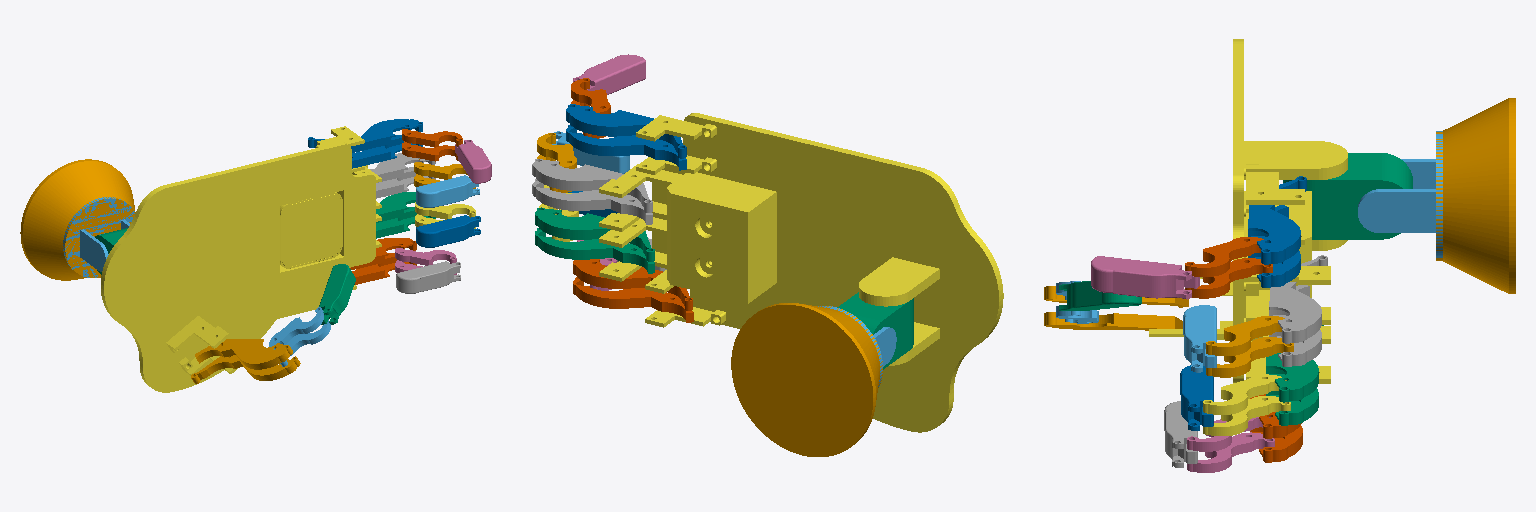
--- Render facts (derived) ---
3 views of the same robot in one strip: view 1: azimuth 30°, elevation 25°; view 2: azimuth 150°, elevation 25°; view 3: azimuth 270°, elevation 25° (orthographic).
Robot: hand_urdf — 19 links, 18 joints (18 continuous); root link base_link; default pose: all joints at 0.
Links seen in each view (by area): view 1: palm_v15_1, base_link, Two_Pip_v3_5, Two_Pip_v3_1, roll_mount_v3_1, Finger_Tip_v1_4, Finger_Tip_v1_3, Two_Pip_v3_3, Finger_Tip_v1_2, Two_Pip_v3_2, Two_Mip_v3_1, Finger_Tip_v1_5 (+6 smaller); view 2: palm_v15_1, base_link, Two_Pip_v3_1, Two_Pip_v3_2, Two_Pip_v3_3, Two_Pip_v3_4, 3dof_link_v3_1, Finger_Tip_v1_1, Two_Mip_v3_1, Two_Mip_v3_2, Finger_Tip_v1_2, roll_mount_v3_1; view 3: base_link, palm_v15_1, 3dof_link_v3_1, roll_mount_v3_1, Two_Pip_v3_1, Finger_Tip_v1_1, Two_Pip_v3_2, Two_Mip_v3_2, Two_Mip_v3_3, Two_Mip_v3_1, Two_Pip_v3_3, Two_Pip_v3_5 (+7 smaller).
Link boxes in pixels (x1=…): palm_v15_1: x1=101, y1=126, x2=381, y2=392; base_link: x1=20, y1=159, x2=135, y2=280; Two_Pip_v3_5: x1=191, y1=339, x2=300, y2=383; Two_Pip_v3_1: x1=308, y1=119, x2=422, y2=168; roll_mount_v3_1: x1=63, y1=197, x2=134, y2=277; Finger_Tip_v1_4: x1=396, y1=261, x2=460, y2=293; Finger_Tip_v1_3: x1=416, y1=215, x2=480, y2=247; Two_Pip_v3_3: x1=376, y1=192, x2=435, y2=238; Finger_Tip_v1_2: x1=416, y1=175, x2=479, y2=207; Two_Pip_v3_2: x1=370, y1=153, x2=435, y2=198; Two_Mip_v3_1: x1=402, y1=129, x2=462, y2=161; Finger_Tip_v1_5: x1=319, y1=264, x2=355, y2=324; palm_v15_1: x1=599, y1=113, x2=1003, y2=432; base_link: x1=731, y1=303, x2=882, y2=456; Two_Pip_v3_1: x1=566, y1=104, x2=686, y2=170; Two_Pip_v3_2: x1=532, y1=159, x2=652, y2=224; Two_Pip_v3_3: x1=535, y1=207, x2=654, y2=273; Two_Pip_v3_4: x1=573, y1=259, x2=693, y2=322; 3dof_link_v3_1: x1=837, y1=292, x2=913, y2=369; Finger_Tip_v1_1: x1=573, y1=54, x2=645, y2=94; Two_Mip_v3_1: x1=571, y1=78, x2=610, y2=138; Two_Mip_v3_2: x1=537, y1=133, x2=576, y2=192; Finger_Tip_v1_2: x1=552, y1=131, x2=629, y2=173; roll_mount_v3_1: x1=818, y1=306, x2=896, y2=386; base_link: x1=1436, y1=98, x2=1515, y2=293; palm_v15_1: x1=1149, y1=39, x2=1347, y2=399; 3dof_link_v3_1: x1=1283, y1=153, x2=1412, y2=239; roll_mount_v3_1: x1=1358, y1=131, x2=1442, y2=257; Two_Pip_v3_1: x1=1248, y1=176, x2=1306, y2=287; Finger_Tip_v1_1: x1=1091, y1=256, x2=1199, y2=299; Two_Pip_v3_2: x1=1269, y1=255, x2=1327, y2=366; Two_Mip_v3_2: x1=1206, y1=316, x2=1293, y2=377; Two_Mip_v3_3: x1=1203, y1=374, x2=1290, y2=435; Two_Mip_v3_1: x1=1185, y1=237, x2=1272, y2=298; Two_Pip_v3_3: x1=1266, y1=325, x2=1323, y2=425; Two_Pip_v3_5: x1=1044, y1=286, x2=1188, y2=330.
Bounding box of the posed robot: 0.2465 × 0.1804 × 0.1321 m (x, y, z).
19 mesh visuals loaded from 19 distinct referenced files (19 binary STL).

URDF robot description (hand_urdf):
<?xml version="1.0" ?>
<robot name="hand_urdf">

<material name="silver">
  <color rgba="0.700 0.700 0.700 1.000"/>
</material>

<link name="base_link">
  <inertial>
    <origin xyz="7.67151758420166e-18 0.020613076923076918 2.1918621669147595e-18" rpy="0 0 0"/>
    <mass value="0.12723793858735147"/>
    <inertia ixx="5.83125013777399e-05" iyy="7.417115410440445e-05" izz="5.8312501377741936e-05" ixy="-3.2362809867855993e-21" iyz="-7.324135827738805e-21" ixz="2.509992214072554e-20"/>
  </inertial>
  <visual>
    <origin xyz="0 0 0" rpy="0 0 0"/>
    <geometry>
      <mesh filename="meshes/base_link.stl" scale="0.001 0.001 0.001"/>
    </geometry>
    <material name="silver"/>
    <material/>
  </visual>
  <collision>
    <origin xyz="0 0 0" rpy="0 0 0"/>
    <geometry>
      <mesh filename="meshes/base_link.stl" scale="0.001 0.001 0.001"/>
    </geometry>
  </collision>
</link>

<link name="roll_mount_v3_1">
  <inertial>
    <origin xyz="4.902036832716327e-18 -0.00358731464829193 -5.172609688619013e-07" rpy="0 0 0"/>
    <mass value="0.057171952716038525"/>
    <inertia ixx="1.0724294508180227e-05" iyy="1.604105624132186e-05" izz="1.3661522217779174e-05" ixy="-9.632077720130188e-21" iyz="-6.479155981462885e-10" ixz="-5.396297255645283e-21"/>
  </inertial>
  <visual>
    <origin xyz="-0.0 -0.0 -0.0" rpy="0 0 0"/>
    <geometry>
      <mesh filename="meshes/roll_mount_v3_1.stl" scale="0.001 0.001 0.001"/>
    </geometry>
    <material name="silver"/>
    <material/>
  </visual>
  <collision>
    <origin xyz="-0.0 -0.0 -0.0" rpy="0 0 0"/>
    <geometry>
      <mesh filename="meshes/roll_mount_v3_1.stl" scale="0.001 0.001 0.001"/>
    </geometry>
  </collision>
</link>

<link name="3dof_link_v3_1">
  <inertial>
    <origin xyz="-0.012501007569997447 -0.01248051111687394 -1.099978665549902e-06" rpy="0 0 0"/>
    <mass value="0.2190513883977172"/>
    <inertia ixx="4.878435686950228e-05" iyy="2.1567777943709372e-05" izz="4.8782437895564896e-05" ixy="-3.975403540888505e-09" iyz="-1.3361367560523011e-09" ixz="-7.419182655409622e-14"/>
  </inertial>
  <visual>
    <origin xyz="-0.0125 0.021163 8e-06" rpy="0 0 0"/>
    <geometry>
      <mesh filename="meshes/3dof_link_v3_1.stl" scale="0.001 0.001 0.001"/>
    </geometry>
    <material name="silver"/>
    <material/>
  </visual>
  <collision>
    <origin xyz="-0.0125 0.021163 8e-06" rpy="0 0 0"/>
    <geometry>
      <mesh filename="meshes/3dof_link_v3_1.stl" scale="0.001 0.001 0.001"/>
    </geometry>
  </collision>
</link>

<link name="palm_v15_1">
  <inertial>
    <origin xyz="0.0636831572680068 -0.021023235461609724 0.020352748519255903" rpy="0 0 0"/>
    <mass value="1.0842981495386774"/>
    <inertia ixx="0.0009660798364865266" iyy="0.003311827801677933" izz="0.002616565759043314" ixy="-0.0001943818595748735" iyz="-4.322062188574132e-05" ixz="-0.00031129336614017203"/>
  </inertial>
  <visual>
    <origin xyz="5e-06 0.046139 0.012509" rpy="0 0 0"/>
    <geometry>
      <mesh filename="meshes/palm_v15_1.stl" scale="0.001 0.001 0.001"/>
    </geometry>
    <material name="silver"/>
    <material/>
  </visual>
  <collision>
    <origin xyz="5e-06 0.046139 0.012509" rpy="0 0 0"/>
    <geometry>
      <mesh filename="meshes/palm_v15_1.stl" scale="0.001 0.001 0.001"/>
    </geometry>
  </collision>
</link>

<link name="Two_Pip_v3_1">
  <inertial>
    <origin xyz="0.017149115417409294 0.0044647852196258025 0.007545434185566913" rpy="0 0 0"/>
    <mass value="0.04433435606559081"/>
    <inertia ixx="2.516721124079383e-06" iyy="1.199198128406533e-05" izz="1.1986574816703422e-05" ixy="-1.4430710920301099e-06" iyz="-4.4051116681242605e-08" ixz="8.995143458426702e-08"/>
  </inertial>
  <visual>
    <origin xyz="-0.128329 0.067015 -0.044091" rpy="0 0 0"/>
    <geometry>
      <mesh filename="meshes/Two_Pip_v3_1.stl" scale="0.001 0.001 0.001"/>
    </geometry>
    <material name="silver"/>
    <material/>
  </visual>
  <collision>
    <origin xyz="-0.128329 0.067015 -0.044091" rpy="0 0 0"/>
    <geometry>
      <mesh filename="meshes/Two_Pip_v3_1.stl" scale="0.001 0.001 0.001"/>
    </geometry>
  </collision>
</link>

<link name="Two_Mip_v3_1">
  <inertial>
    <origin xyz="0.03232726319551196 0.016294129241037215 -0.036248912572725674" rpy="0 0 0"/>
    <mass value="0.03803020017060857"/>
    <inertia ixx="6.436662632708387e-05" iyy="5.4780189326477605e-05" izz="5.916986932337498e-05" ixy="-2.55218768889134e-05" iyz="3.068078924495017e-05" ixz="2.55109177183834e-05"/>
  </inertial>
  <visual>
    <origin xyz="-0.167942 0.06428 -0.058091" rpy="0 0 0"/>
    <geometry>
      <mesh filename="meshes/Two_Mip_v3_1.stl" scale="0.001 0.001 0.001"/>
    </geometry>
    <material name="silver"/>
    <material/>
  </visual>
  <collision>
    <origin xyz="-0.167942 0.06428 -0.058091" rpy="0 0 0"/>
    <geometry>
      <mesh filename="meshes/Two_Mip_v3_1.stl" scale="0.001 0.001 0.001"/>
    </geometry>
  </collision>
</link>

<link name="Finger_Tip_v1_1">
  <inertial>
    <origin xyz="-0.0015503976109235151 -0.02029135940462791 0.0024995638900678144" rpy="0 0 0"/>
    <mass value="0.033241134652794525"/>
    <inertia ixx="3.652194680828463e-06" iyy="8.311943927171665e-07" izz="3.937895611284218e-06" ixy="-7.049413163236337e-07" iyz="2.7923437216983982e-14" ixz="2.428271342683197e-14"/>
  </inertial>
  <visual>
    <origin xyz="-0.186123 0.094108 -0.049091" rpy="0 0 0"/>
    <geometry>
      <mesh filename="meshes/Finger_Tip_v1_1.stl" scale="0.001 0.001 0.001"/>
    </geometry>
    <material name="silver"/>
    <material/>
  </visual>
  <collision>
    <origin xyz="-0.186123 0.094108 -0.049091" rpy="0 0 0"/>
    <geometry>
      <mesh filename="meshes/Finger_Tip_v1_1.stl" scale="0.001 0.001 0.001"/>
    </geometry>
  </collision>
</link>

<link name="Two_Pip_v3_2">
  <inertial>
    <origin xyz="0.01746432145907037 0.005674792107288232 -0.007454565829334393" rpy="0 0 0"/>
    <mass value="0.04433435606559081"/>
    <inertia ixx="2.5167211240792746e-06" iyy="1.1991981284065114e-05" izz="1.1986574816703205e-05" ixy="-1.4430710920302725e-06" iyz="-4.4051116681242605e-08" ixz="8.995143458423991e-08"/>
  </inertial>
  <visual>
    <origin xyz="-0.141099 0.060163 -0.031791" rpy="0 0 0"/>
    <geometry>
      <mesh filename="meshes/Two_Pip_v3_2.stl" scale="0.001 0.001 0.001"/>
    </geometry>
    <material name="silver"/>
    <material/>
  </visual>
  <collision>
    <origin xyz="-0.141099 0.060163 -0.031791" rpy="0 0 0"/>
    <geometry>
      <mesh filename="meshes/Two_Pip_v3_2.stl" scale="0.001 0.001 0.001"/>
    </geometry>
  </collision>
</link>

<link name="Two_Mip_v3_2">
  <inertial>
    <origin xyz="-0.12089953506854902 0.011957638943754054 -0.008564433293171825" rpy="0 0 0"/>
    <mass value="0.03803020017060857"/>
    <inertia ixx="3.4536509343401667e-05" iyy="0.0005375688788129267" izz="0.0005551278725152321" ixy="0.00011451652818724916" iyz="1.3401805138987385e-05" ixz="-6.249560442207107e-05"/>
  </inertial>
  <visual>
    <origin xyz="-0.181027 0.056218 -0.017791" rpy="0 0 0"/>
    <geometry>
      <mesh filename="meshes/Two_Mip_v3_2.stl" scale="0.001 0.001 0.001"/>
    </geometry>
    <material name="silver"/>
    <material/>
  </visual>
  <collision>
    <origin xyz="-0.181027 0.056218 -0.017791" rpy="0 0 0"/>
    <geometry>
      <mesh filename="meshes/Two_Mip_v3_2.stl" scale="0.001 0.001 0.001"/>
    </geometry>
  </collision>
</link>

<link name="Finger_Tip_v1_2">
  <inertial>
    <origin xyz="-0.02000108952769597 -0.0037538195925257145 0.002499563875166342" rpy="0 0 0"/>
    <mass value="0.033241134652794525"/>
    <inertia ixx="6.676949218170159e-07" iyy="3.81569415172818e-06" izz="3.937895611283784e-06" ixy="-9.47529839144404e-08" iyz="-1.6228243250072938e-14" ixz="3.325681743882036e-14"/>
  </inertial>
  <visual>
    <origin xyz="-0.199208 0.086046 -0.021791" rpy="0 0 0"/>
    <geometry>
      <mesh filename="meshes/Finger_Tip_v1_2.stl" scale="0.001 0.001 0.001"/>
    </geometry>
    <material name="silver"/>
    <material/>
  </visual>
  <collision>
    <origin xyz="-0.199208 0.086046 -0.021791" rpy="0 0 0"/>
    <geometry>
      <mesh filename="meshes/Finger_Tip_v1_2.stl" scale="0.001 0.001 0.001"/>
    </geometry>
  </collision>
</link>

<link name="Two_Pip_v3_3">
  <inertial>
    <origin xyz="0.01714946898944797 0.004465106979801271 -0.0074545658293346945" rpy="0 0 0"/>
    <mass value="0.04433435606559081"/>
    <inertia ixx="2.5167211240793017e-06" iyy="1.199198128406533e-05" izz="1.1986574816703205e-05" ixy="-1.443071092030164e-06" iyz="-4.405111668122905e-08" ixz="8.995143458423229e-08"/>
  </inertial>
  <visual>
    <origin xyz="-0.140995 0.060163 -0.006791" rpy="0 0 0"/>
    <geometry>
      <mesh filename="meshes/Two_Pip_v3_3.stl" scale="0.001 0.001 0.001"/>
    </geometry>
    <material name="silver"/>
    <material/>
  </visual>
  <collision>
    <origin xyz="-0.140995 0.060163 -0.006791" rpy="0 0 0"/>
    <geometry>
      <mesh filename="meshes/Two_Pip_v3_3.stl" scale="0.001 0.001 0.001"/>
    </geometry>
  </collision>
</link>

<link name="Two_Mip_v3_3">
  <inertial>
    <origin xyz="-0.1206750897207998 0.012608634995669901 0.004882892060710752" rpy="0 0 0"/>
    <mass value="0.03803020017060857"/>
    <inertia ixx="2.8379448847994343e-05" iyy="0.0005283725023437511" izz="0.0005544317570347617" ixy="0.00011701076427975818" iyz="1.4726538380615974e-06" ixz="-6.695143146257e-06"/>
  </inertial>
  <visual>
    <origin xyz="-0.180609 0.057428 0.007209" rpy="0 0 0"/>
    <geometry>
      <mesh filename="meshes/Two_Mip_v3_3.stl" scale="0.001 0.001 0.001"/>
    </geometry>
    <material name="silver"/>
    <material/>
  </visual>
  <collision>
    <origin xyz="-0.180609 0.057428 0.007209" rpy="0 0 0"/>
    <geometry>
      <mesh filename="meshes/Two_Mip_v3_3.stl" scale="0.001 0.001 0.001"/>
    </geometry>
  </collision>
</link>

<link name="Finger_Tip_v1_3">
  <inertial>
    <origin xyz="-0.02000194199731825 -0.00375450472001268 0.00249956387516606" rpy="0 0 0"/>
    <mass value="0.033241134652794525"/>
    <inertia ixx="6.676949218170701e-07" iyy="3.815694151728614e-06" izz="3.937895611284001e-06" ixy="-9.47529839144404e-08" iyz="-1.622823774435878e-14" ixz="3.325682506211689e-14"/>
  </inertial>
  <visual>
    <origin xyz="-0.19879 0.087255 0.003209" rpy="0 0 0"/>
    <geometry>
      <mesh filename="meshes/Finger_Tip_v1_3.stl" scale="0.001 0.001 0.001"/>
    </geometry>
    <material name="silver"/>
    <material/>
  </visual>
  <collision>
    <origin xyz="-0.19879 0.087255 0.003209" rpy="0 0 0"/>
    <geometry>
      <mesh filename="meshes/Finger_Tip_v1_3.stl" scale="0.001 0.001 0.001"/>
    </geometry>
  </collision>
</link>

<link name="Two_Pip_v3_4">
  <inertial>
    <origin xyz="0.018138085782602176 0.005229270416844768 0.00754543418556702" rpy="0 0 0"/>
    <mass value="0.04433435606559081"/>
    <inertia ixx="2.516721124079329e-06" iyy="1.1991981284065222e-05" izz="1.1986574816703422e-05" ixy="-1.4430710920301099e-06" iyz="-4.4051116681242605e-08" ixz="8.995143458426702e-08"/>
  </inertial>
  <visual>
    <origin xyz="-0.123329 0.067015 0.031509" rpy="0 0 0"/>
    <geometry>
      <mesh filename="meshes/Two_Pip_v3_4.stl" scale="0.001 0.001 0.001"/>
    </geometry>
    <material name="silver"/>
    <material/>
  </visual>
  <collision>
    <origin xyz="-0.123329 0.067015 0.031509" rpy="0 0 0"/>
    <geometry>
      <mesh filename="meshes/Two_Pip_v3_4.stl" scale="0.001 0.001 0.001"/>
    </geometry>
  </collision>
</link>

<link name="Two_Mip_v3_4">
  <inertial>
    <origin xyz="-0.1117038250062922 0.015883403191246953 0.01741579929741562" rpy="0 0 0"/>
    <mass value="0.03803020017060857"/>
    <inertia ixx="3.8503513756444824e-05" iyy="0.000460509121250159" izz="0.0004890765689458137" ixy="0.00012144066052964238" iyz="-1.1111688106410399e-05" ixz="4.200811690443035e-05"/>
  </inertial>
  <visual>
    <origin xyz="-0.163931 0.063516 0.030509" rpy="0 0 0"/>
    <geometry>
      <mesh filename="meshes/Two_Mip_v3_4.stl" scale="0.001 0.001 0.001"/>
    </geometry>
    <material name="silver"/>
    <material/>
  </visual>
  <collision>
    <origin xyz="-0.163931 0.063516 0.030509" rpy="0 0 0"/>
    <geometry>
      <mesh filename="meshes/Two_Mip_v3_4.stl" scale="0.001 0.001 0.001"/>
    </geometry>
  </collision>
</link>

<link name="Finger_Tip_v1_4">
  <inertial>
    <origin xyz="-0.02000132520416406 -0.003754341282969198 0.0024995638900677415" rpy="0 0 0"/>
    <mass value="0.033241134652794525"/>
    <inertia ixx="6.676949218169617e-07" iyy="3.8156941517282885e-06" izz="3.937895611283784e-06" ixy="-9.47529839144404e-08" iyz="-1.6228243250072938e-14" ixz="3.3256844543874675e-14"/>
  </inertial>
  <visual>
    <origin xyz="-0.182112 0.093343 0.026509" rpy="0 0 0"/>
    <geometry>
      <mesh filename="meshes/Finger_Tip_v1_4.stl" scale="0.001 0.001 0.001"/>
    </geometry>
    <material name="silver"/>
    <material/>
  </visual>
  <collision>
    <origin xyz="-0.182112 0.093343 0.026509" rpy="0 0 0"/>
    <geometry>
      <mesh filename="meshes/Finger_Tip_v1_4.stl" scale="0.001 0.001 0.001"/>
    </geometry>
  </collision>
</link>

<link name="Two_Pip_v3_5">
  <inertial>
    <origin xyz="0.00034969288753799663 -0.0170844791631114 0.008808977284770404" rpy="0 0 0"/>
    <mass value="0.04433435606559081"/>
    <inertia ixx="1.1223309007340207e-05" iyy="3.6357999389106997e-06" izz="1.1636168278596334e-05" ixy="2.9004171128540655e-06" iyz="1.7390751113787644e-06" ixz="-5.237968239020079e-07"/>
  </inertial>
  <visual>
    <origin xyz="-0.02737 0.104411 0.043766" rpy="0 0 0"/>
    <geometry>
      <mesh filename="meshes/Two_Pip_v3_5.stl" scale="0.001 0.001 0.001"/>
    </geometry>
    <material name="silver"/>
    <material/>
  </visual>
  <collision>
    <origin xyz="-0.02737 0.104411 0.043766" rpy="0 0 0"/>
    <geometry>
      <mesh filename="meshes/Two_Pip_v3_5.stl" scale="0.001 0.001 0.001"/>
    </geometry>
  </collision>
</link>

<link name="Two_Mip_v3_5">
  <inertial>
    <origin xyz="-0.044012454320836635 0.0658731736590958 0.022684825485536957" rpy="0 0 0"/>
    <mass value="0.03803020017060857"/>
    <inertia ixx="0.00013132298543133133" iyy="0.00010404212398099626" izz="0.00022721198072987318" ixy="0.00011191539984947779" iyz="-1.8184827022846094e-05" ixz="1.5604897071608825e-05"/>
  </inertial>
  <visual>
    <origin xyz="-0.041972 0.140085 0.034181" rpy="0 0 0"/>
    <geometry>
      <mesh filename="meshes/Two_Mip_v3_5.stl" scale="0.001 0.001 0.001"/>
    </geometry>
    <material name="silver"/>
    <material/>
  </visual>
  <collision>
    <origin xyz="-0.041972 0.140085 0.034181" rpy="0 0 0"/>
    <geometry>
      <mesh filename="meshes/Two_Mip_v3_5.stl" scale="0.001 0.001 0.001"/>
    </geometry>
  </collision>
</link>

<link name="Finger_Tip_v1_5">
  <inertial>
    <origin xyz="0.014109502474352678 0.00998134177570334 0.011032146227787046" rpy="0 0 0"/>
    <mass value="0.033241134652794525"/>
    <inertia ixx="2.3907680638972145e-06" iyy="2.6083301747380813e-06" izz="3.422186446194091e-06" ixy="-1.3281654503544105e-06" iyz="-7.668166412516778e-07" ixz="-8.932344909094065e-07"/>
  </inertial>
  <visual>
    <origin xyz="-0.070162 0.13787 0.013286" rpy="0 0 0"/>
    <geometry>
      <mesh filename="meshes/Finger_Tip_v1_5.stl" scale="0.001 0.001 0.001"/>
    </geometry>
    <material name="silver"/>
    <material/>
  </visual>
  <collision>
    <origin xyz="-0.070162 0.13787 0.013286" rpy="0 0 0"/>
    <geometry>
      <mesh filename="meshes/Finger_Tip_v1_5.stl" scale="0.001 0.001 0.001"/>
    </geometry>
  </collision>
</link>

<joint name="Rev16" type="continuous">
  <origin xyz="0.0 0.0 0.0" rpy="0 0 0"/>
  <parent link="base_link"/>
  <child link="roll_mount_v3_1"/>
  <axis xyz="0.0 -1.0 0.0"/>
</joint>
<transmission name="Rev16_tran">
  <type>transmission_interface/SimpleTransmission</type>
  <joint name="Rev16">
    <hardwareInterface>PositionJointInterface</hardwareInterface>
  </joint>
  <actuator name="Rev16_actr">
    <hardwareInterface>PositionJointInterface</hardwareInterface>
    <mechanicalReduction>1</mechanicalReduction>
  </actuator>
</transmission>

<joint name="Rev17" type="continuous">
  <origin xyz="0.0125 -0.021163 -8e-06" rpy="0 0 0"/>
  <parent link="roll_mount_v3_1"/>
  <child link="3dof_link_v3_1"/>
  <axis xyz="-1.0 -0.0 0.0"/>
</joint>
<transmission name="Rev17_tran">
  <type>transmission_interface/SimpleTransmission</type>
  <joint name="Rev17">
    <hardwareInterface>PositionJointInterface</hardwareInterface>
  </joint>
  <actuator name="Rev17_actr">
    <hardwareInterface>PositionJointInterface</hardwareInterface>
    <mechanicalReduction>1</mechanicalReduction>
  </actuator>
</transmission>

<joint name="Rev18" type="continuous">
  <origin xyz="-0.012505 -0.024976 -0.012501" rpy="0 0 0"/>
  <parent link="3dof_link_v3_1"/>
  <child link="palm_v15_1"/>
  <axis xyz="-0.0 0.0 -1.0"/>
</joint>
<transmission name="Rev18_tran">
  <type>transmission_interface/SimpleTransmission</type>
  <joint name="Rev18">
    <hardwareInterface>PositionJointInterface</hardwareInterface>
  </joint>
  <actuator name="Rev18_actr">
    <hardwareInterface>PositionJointInterface</hardwareInterface>
    <mechanicalReduction>1</mechanicalReduction>
  </actuator>
</transmission>

<joint name="Rev1" type="continuous">
  <origin xyz="0.128334 -0.020876 0.0566" rpy="0 0 0"/>
  <parent link="palm_v15_1"/>
  <child link="Two_Pip_v3_1"/>
  <axis xyz="0.0 -0.0 1.0"/>
</joint>
<transmission name="Rev1_tran">
  <type>transmission_interface/SimpleTransmission</type>
  <joint name="Rev1">
    <hardwareInterface>PositionJointInterface</hardwareInterface>
  </joint>
  <actuator name="Rev1_actr">
    <hardwareInterface>PositionJointInterface</hardwareInterface>
    <mechanicalReduction>1</mechanicalReduction>
  </actuator>
</transmission>

<joint name="Rev2" type="continuous">
  <origin xyz="0.039613 0.002735 0.014" rpy="0 0 0"/>
  <parent link="Two_Pip_v3_1"/>
  <child link="Two_Mip_v3_1"/>
  <axis xyz="0.0 -0.0 -1.0"/>
</joint>
<transmission name="Rev2_tran">
  <type>transmission_interface/SimpleTransmission</type>
  <joint name="Rev2">
    <hardwareInterface>PositionJointInterface</hardwareInterface>
  </joint>
  <actuator name="Rev2_actr">
    <hardwareInterface>PositionJointInterface</hardwareInterface>
    <mechanicalReduction>1</mechanicalReduction>
  </actuator>
</transmission>

<joint name="Rev3" type="continuous">
  <origin xyz="0.018181 -0.029828 -0.009" rpy="0 0 0"/>
  <parent link="Two_Mip_v3_1"/>
  <child link="Finger_Tip_v1_1"/>
  <axis xyz="0.0 -0.0 -1.0"/>
</joint>
<transmission name="Rev3_tran">
  <type>transmission_interface/SimpleTransmission</type>
  <joint name="Rev3">
    <hardwareInterface>PositionJointInterface</hardwareInterface>
  </joint>
  <actuator name="Rev3_actr">
    <hardwareInterface>PositionJointInterface</hardwareInterface>
    <mechanicalReduction>1</mechanicalReduction>
  </actuator>
</transmission>

<joint name="Rev4" type="continuous">
  <origin xyz="0.141104 -0.014024 0.0443" rpy="0 0 0"/>
  <parent link="palm_v15_1"/>
  <child link="Two_Pip_v3_2"/>
  <axis xyz="-0.0 -0.0 1.0"/>
</joint>
<transmission name="Rev4_tran">
  <type>transmission_interface/SimpleTransmission</type>
  <joint name="Rev4">
    <hardwareInterface>PositionJointInterface</hardwareInterface>
  </joint>
  <actuator name="Rev4_actr">
    <hardwareInterface>PositionJointInterface</hardwareInterface>
    <mechanicalReduction>1</mechanicalReduction>
  </actuator>
</transmission>

<joint name="Rev5" type="continuous">
  <origin xyz="0.039928 0.003945 -0.014" rpy="0 0 0"/>
  <parent link="Two_Pip_v3_2"/>
  <child link="Two_Mip_v3_2"/>
  <axis xyz="-0.0 0.0 1.0"/>
</joint>
<transmission name="Rev5_tran">
  <type>transmission_interface/SimpleTransmission</type>
  <joint name="Rev5">
    <hardwareInterface>PositionJointInterface</hardwareInterface>
  </joint>
  <actuator name="Rev5_actr">
    <hardwareInterface>PositionJointInterface</hardwareInterface>
    <mechanicalReduction>1</mechanicalReduction>
  </actuator>
</transmission>

<joint name="Rev6" type="continuous">
  <origin xyz="0.018181 -0.029828 0.004" rpy="0 0 0"/>
  <parent link="Two_Mip_v3_2"/>
  <child link="Finger_Tip_v1_2"/>
  <axis xyz="0.0 -0.0 -1.0"/>
</joint>
<transmission name="Rev6_tran">
  <type>transmission_interface/SimpleTransmission</type>
  <joint name="Rev6">
    <hardwareInterface>PositionJointInterface</hardwareInterface>
  </joint>
  <actuator name="Rev6_actr">
    <hardwareInterface>PositionJointInterface</hardwareInterface>
    <mechanicalReduction>1</mechanicalReduction>
  </actuator>
</transmission>

<joint name="Rev7" type="continuous">
  <origin xyz="0.141 -0.014024 0.0193" rpy="0 0 0"/>
  <parent link="palm_v15_1"/>
  <child link="Two_Pip_v3_3"/>
  <axis xyz="-0.0 0.0 -1.0"/>
</joint>
<transmission name="Rev7_tran">
  <type>transmission_interface/SimpleTransmission</type>
  <joint name="Rev7">
    <hardwareInterface>PositionJointInterface</hardwareInterface>
  </joint>
  <actuator name="Rev7_actr">
    <hardwareInterface>PositionJointInterface</hardwareInterface>
    <mechanicalReduction>1</mechanicalReduction>
  </actuator>
</transmission>

<joint name="Rev8" type="continuous">
  <origin xyz="0.039614 0.002735 -0.014" rpy="0 0 0"/>
  <parent link="Two_Pip_v3_3"/>
  <child link="Two_Mip_v3_3"/>
  <axis xyz="-0.0 0.0 1.0"/>
</joint>
<transmission name="Rev8_tran">
  <type>transmission_interface/SimpleTransmission</type>
  <joint name="Rev8">
    <hardwareInterface>PositionJointInterface</hardwareInterface>
  </joint>
  <actuator name="Rev8_actr">
    <hardwareInterface>PositionJointInterface</hardwareInterface>
    <mechanicalReduction>1</mechanicalReduction>
  </actuator>
</transmission>

<joint name="Rev9" type="continuous">
  <origin xyz="0.018181 -0.029827 0.004" rpy="0 0 0"/>
  <parent link="Two_Mip_v3_3"/>
  <child link="Finger_Tip_v1_3"/>
  <axis xyz="0.0 -0.0 -1.0"/>
</joint>
<transmission name="Rev9_tran">
  <type>transmission_interface/SimpleTransmission</type>
  <joint name="Rev9">
    <hardwareInterface>PositionJointInterface</hardwareInterface>
  </joint>
  <actuator name="Rev9_actr">
    <hardwareInterface>PositionJointInterface</hardwareInterface>
    <mechanicalReduction>1</mechanicalReduction>
  </actuator>
</transmission>

<joint name="Rev10" type="continuous">
  <origin xyz="0.123334 -0.020876 -0.019" rpy="0 0 0"/>
  <parent link="palm_v15_1"/>
  <child link="Two_Pip_v3_4"/>
  <axis xyz="0.0 -0.0 1.0"/>
</joint>
<transmission name="Rev10_tran">
  <type>transmission_interface/SimpleTransmission</type>
  <joint name="Rev10">
    <hardwareInterface>PositionJointInterface</hardwareInterface>
  </joint>
  <actuator name="Rev10_actr">
    <hardwareInterface>PositionJointInterface</hardwareInterface>
    <mechanicalReduction>1</mechanicalReduction>
  </actuator>
</transmission>

<joint name="Rev11" type="continuous">
  <origin xyz="0.040602 0.003499 0.001" rpy="0 0 0"/>
  <parent link="Two_Pip_v3_4"/>
  <child link="Two_Mip_v3_4"/>
  <axis xyz="-0.0 0.0 1.0"/>
</joint>
<transmission name="Rev11_tran">
  <type>transmission_interface/SimpleTransmission</type>
  <joint name="Rev11">
    <hardwareInterface>PositionJointInterface</hardwareInterface>
  </joint>
  <actuator name="Rev11_actr">
    <hardwareInterface>PositionJointInterface</hardwareInterface>
    <mechanicalReduction>1</mechanicalReduction>
  </actuator>
</transmission>

<joint name="Rev12" type="continuous">
  <origin xyz="0.018181 -0.029827 0.004" rpy="0 0 0"/>
  <parent link="Two_Mip_v3_4"/>
  <child link="Finger_Tip_v1_4"/>
  <axis xyz="-0.0 -0.0 -1.0"/>
</joint>
<transmission name="Rev12_tran">
  <type>transmission_interface/SimpleTransmission</type>
  <joint name="Rev12">
    <hardwareInterface>PositionJointInterface</hardwareInterface>
  </joint>
  <actuator name="Rev12_actr">
    <hardwareInterface>PositionJointInterface</hardwareInterface>
    <mechanicalReduction>1</mechanicalReduction>
  </actuator>
</transmission>

<joint name="Rev13" type="continuous">
  <origin xyz="0.027375 -0.058272 -0.031257" rpy="0 0 0"/>
  <parent link="palm_v15_1"/>
  <child link="Two_Pip_v3_5"/>
  <axis xyz="0.5 0.0 -0.866025"/>
</joint>
<transmission name="Rev13_tran">
  <type>transmission_interface/SimpleTransmission</type>
  <joint name="Rev13">
    <hardwareInterface>PositionJointInterface</hardwareInterface>
  </joint>
  <actuator name="Rev13_actr">
    <hardwareInterface>PositionJointInterface</hardwareInterface>
    <mechanicalReduction>1</mechanicalReduction>
  </actuator>
</transmission>

<joint name="Rev14" type="continuous">
  <origin xyz="0.014602 -0.035674 0.009585" rpy="0 0 0"/>
  <parent link="Two_Pip_v3_5"/>
  <child link="Two_Mip_v3_5"/>
  <axis xyz="-0.5 -0.0 0.866025"/>
</joint>
<transmission name="Rev14_tran">
  <type>transmission_interface/SimpleTransmission</type>
  <joint name="Rev14">
    <hardwareInterface>PositionJointInterface</hardwareInterface>
  </joint>
  <actuator name="Rev14_actr">
    <hardwareInterface>PositionJointInterface</hardwareInterface>
    <mechanicalReduction>1</mechanicalReduction>
  </actuator>
</transmission>

<joint name="Rev15" type="continuous">
  <origin xyz="0.02819 0.002215 0.020895" rpy="0 0 0"/>
  <parent link="Two_Mip_v3_5"/>
  <child link="Finger_Tip_v1_5"/>
  <axis xyz="0.5 0.0 -0.866025"/>
</joint>
<transmission name="Rev15_tran">
  <type>transmission_interface/SimpleTransmission</type>
  <joint name="Rev15">
    <hardwareInterface>PositionJointInterface</hardwareInterface>
  </joint>
  <actuator name="Rev15_actr">
    <hardwareInterface>PositionJointInterface</hardwareInterface>
    <mechanicalReduction>1</mechanicalReduction>
  </actuator>
</transmission>

</robot>
